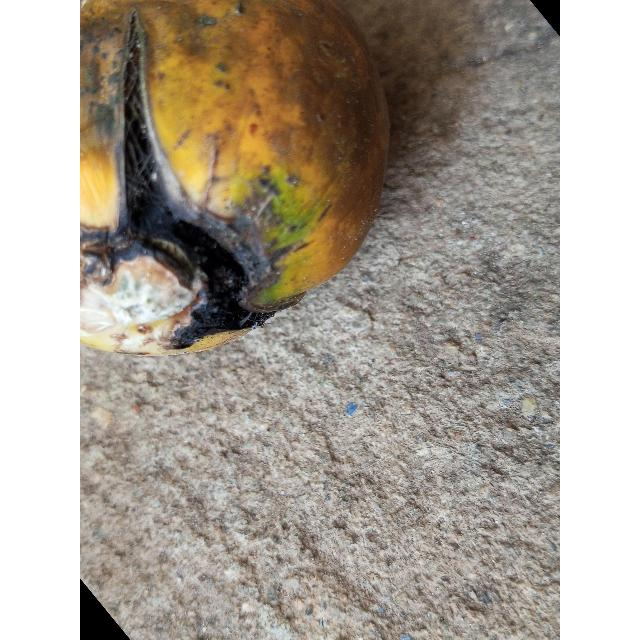damaged: (80, 0, 391, 358)
